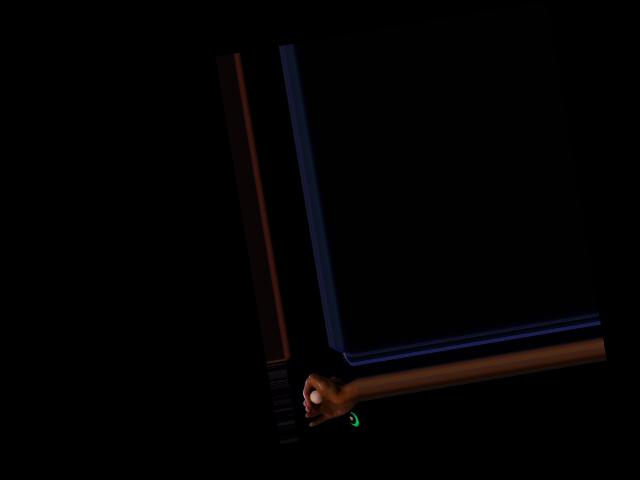egg: (308, 388, 322, 405)
